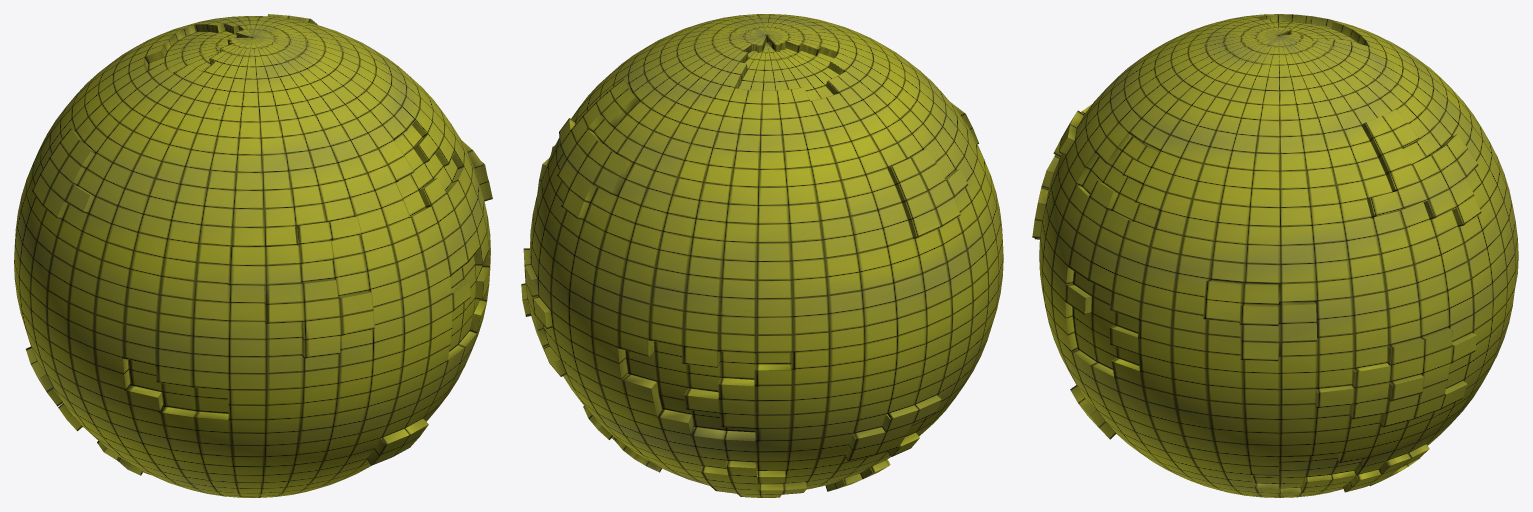
File: HomebaseFBXLevel2.fbx
The picture shows the model from 3 angles, left to right: view 1: azimuth 30°, elevation 25°; view 2: azimuth 150°, elevation 25°; view 3: azimuth 270°, elevation 25°; orthographic projection.
Parts seen in each view (by area): view 1: pSphere1; view 2: pSphere1; view 3: pSphere1.
Part boxes in pixels (x1,y1,x2,y2): pSphere1: (14,14,492,497); pSphere1: (521,14,1003,497); pSphere1: (1032,14,1518,497).
Size of the model in its own units: 7.77 by 7.63 by 7.65.
1 material, 1 textured.
